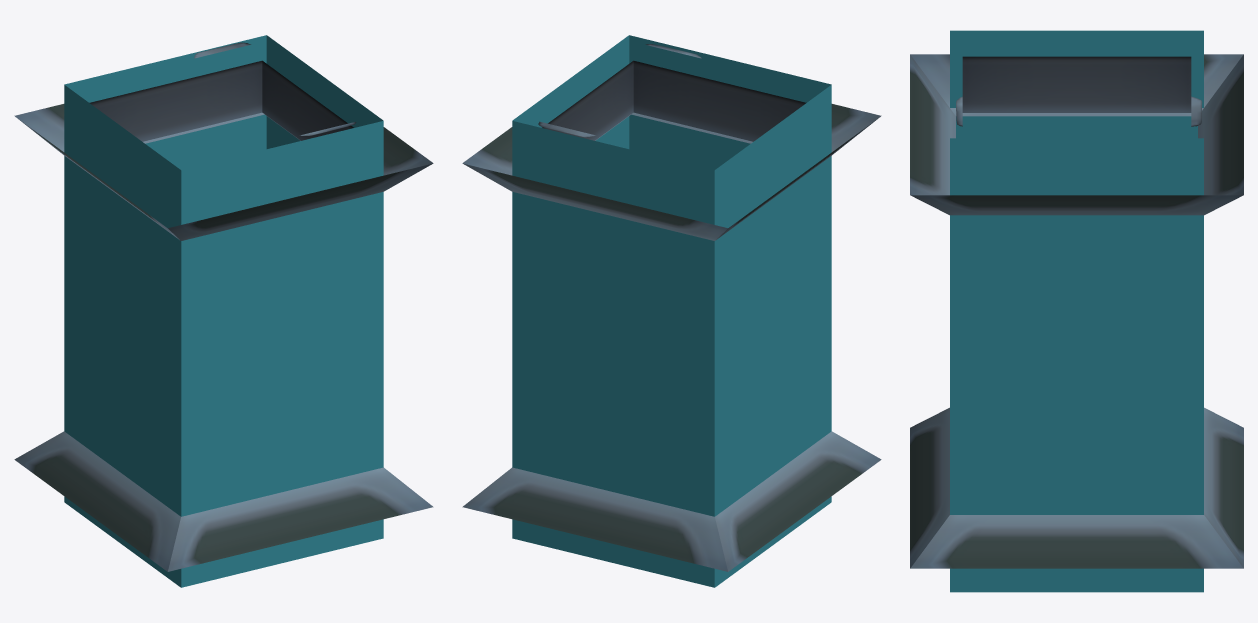
The model's file is obj_interactive_pipe03_lod1.fbx.
3 views of the same model, side by side, from view 1: azimuth 30°, elevation 25°; view 2: azimuth 150°, elevation 25°; view 3: azimuth 270°, elevation 25° (orthographic). The views are drawn at different scales.
Visible parts, largest first — view 1: obj_interactive_pipe03_lod1; view 2: obj_interactive_pipe03_lod1; view 3: obj_interactive_pipe03_lod1.
Part boxes in pixels (x1,y1,x2,y2): obj_interactive_pipe03_lod1: (14,35,433,587); obj_interactive_pipe03_lod1: (462,35,881,587); obj_interactive_pipe03_lod1: (910,30,1243,592).
Size of the model in its own units: 2 by 3 by 2.
